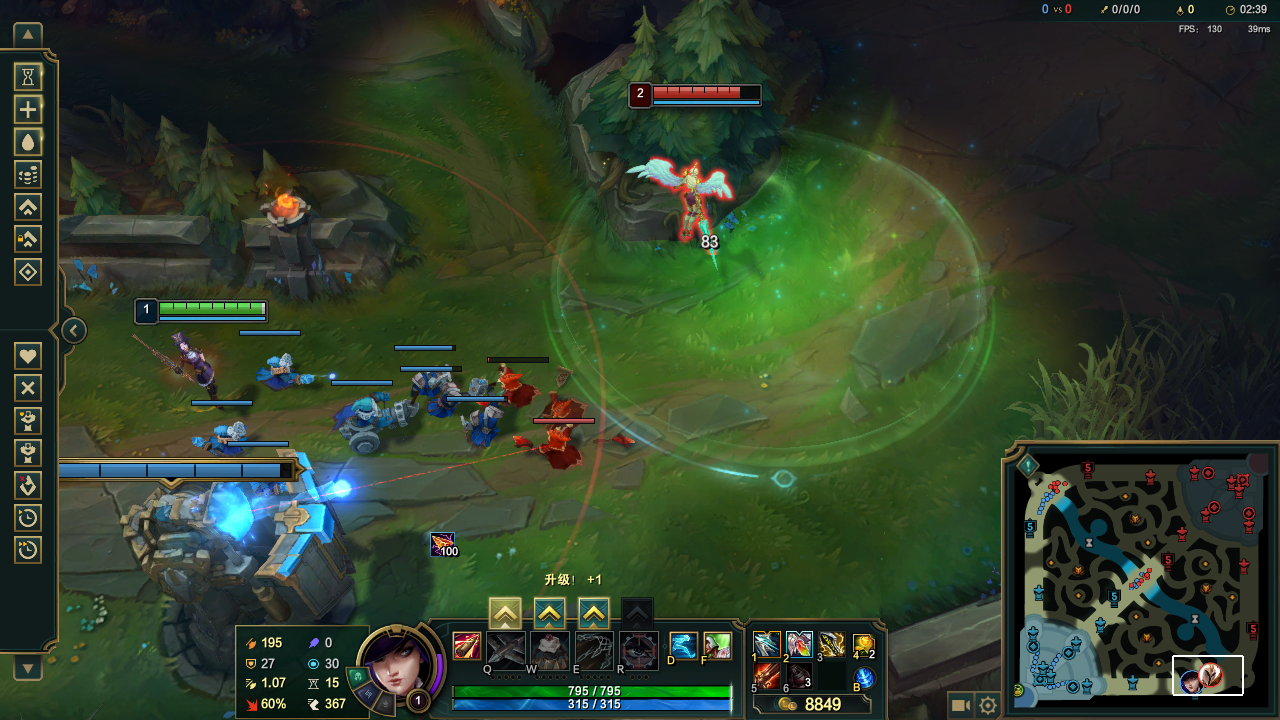DFYX: (652, 85, 758, 101)
